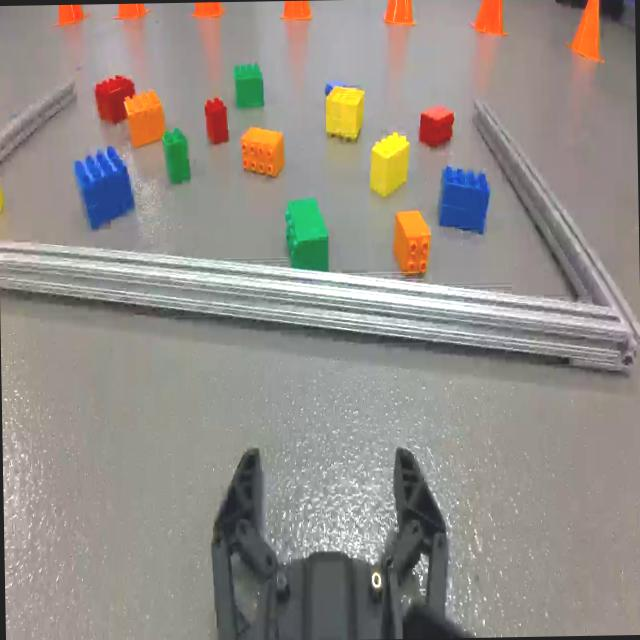block: (367, 130, 408, 196), (326, 89, 364, 144), (0, 173, 5, 215)
blue: (72, 147, 134, 232), (439, 166, 489, 235), (324, 81, 346, 99)
cone: (567, 0, 606, 63), (470, 0, 509, 37), (381, 0, 417, 27), (55, 4, 90, 29), (278, 0, 312, 23), (112, 3, 148, 23), (190, 2, 227, 20)
green: (283, 198, 329, 272), (161, 130, 190, 184), (233, 61, 265, 106)
orange: (391, 205, 429, 272), (124, 90, 166, 144), (241, 124, 283, 178)
red goal: (416, 100, 454, 148), (97, 72, 134, 119), (205, 95, 228, 144)
